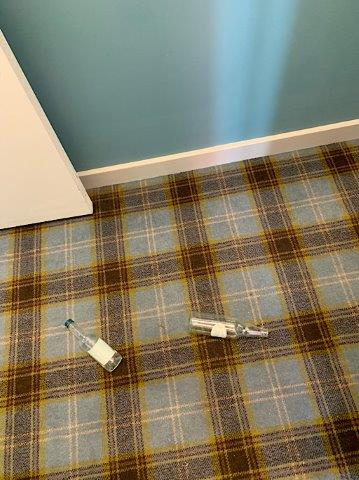botolkaca: (65, 319, 121, 370), (190, 312, 268, 339)
